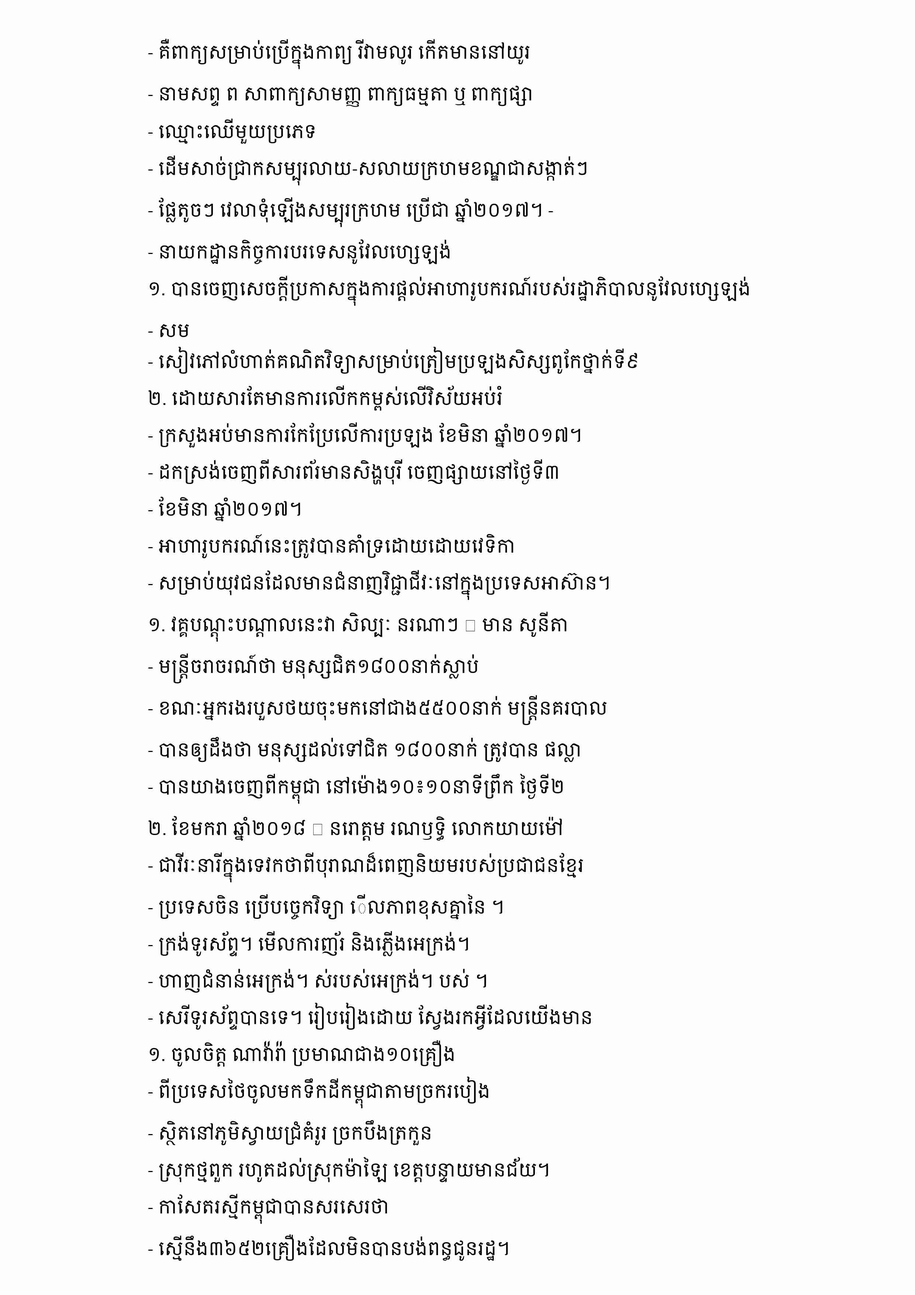text: (148, 276, 756, 306), (148, 570, 615, 600), (148, 695, 612, 725), (148, 155, 593, 186), (148, 852, 589, 883), (148, 347, 644, 374), (148, 612, 573, 642), (148, 774, 570, 804), (148, 197, 559, 227), (148, 1003, 598, 1030), (148, 39, 536, 69), (148, 1076, 495, 1109), (148, 422, 587, 448), (148, 737, 586, 762), (148, 459, 565, 485), (148, 816, 569, 841), (148, 653, 484, 684), (148, 1157, 555, 1182), (148, 1234, 515, 1261), (148, 894, 509, 920), (148, 385, 508, 411), (148, 534, 520, 559), (148, 1040, 460, 1067), (148, 969, 493, 993), (148, 86, 538, 107), (148, 931, 475, 956), (148, 239, 456, 264), (148, 1194, 394, 1224), (148, 1120, 437, 1145), (148, 118, 322, 144), (148, 497, 307, 522), (148, 324, 195, 337)
